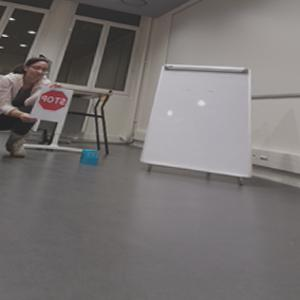stop: (39, 89, 68, 110)
